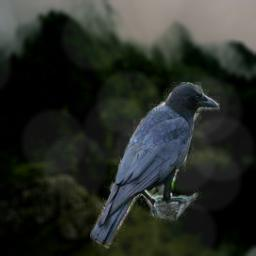Crow: (90, 82, 220, 249)
